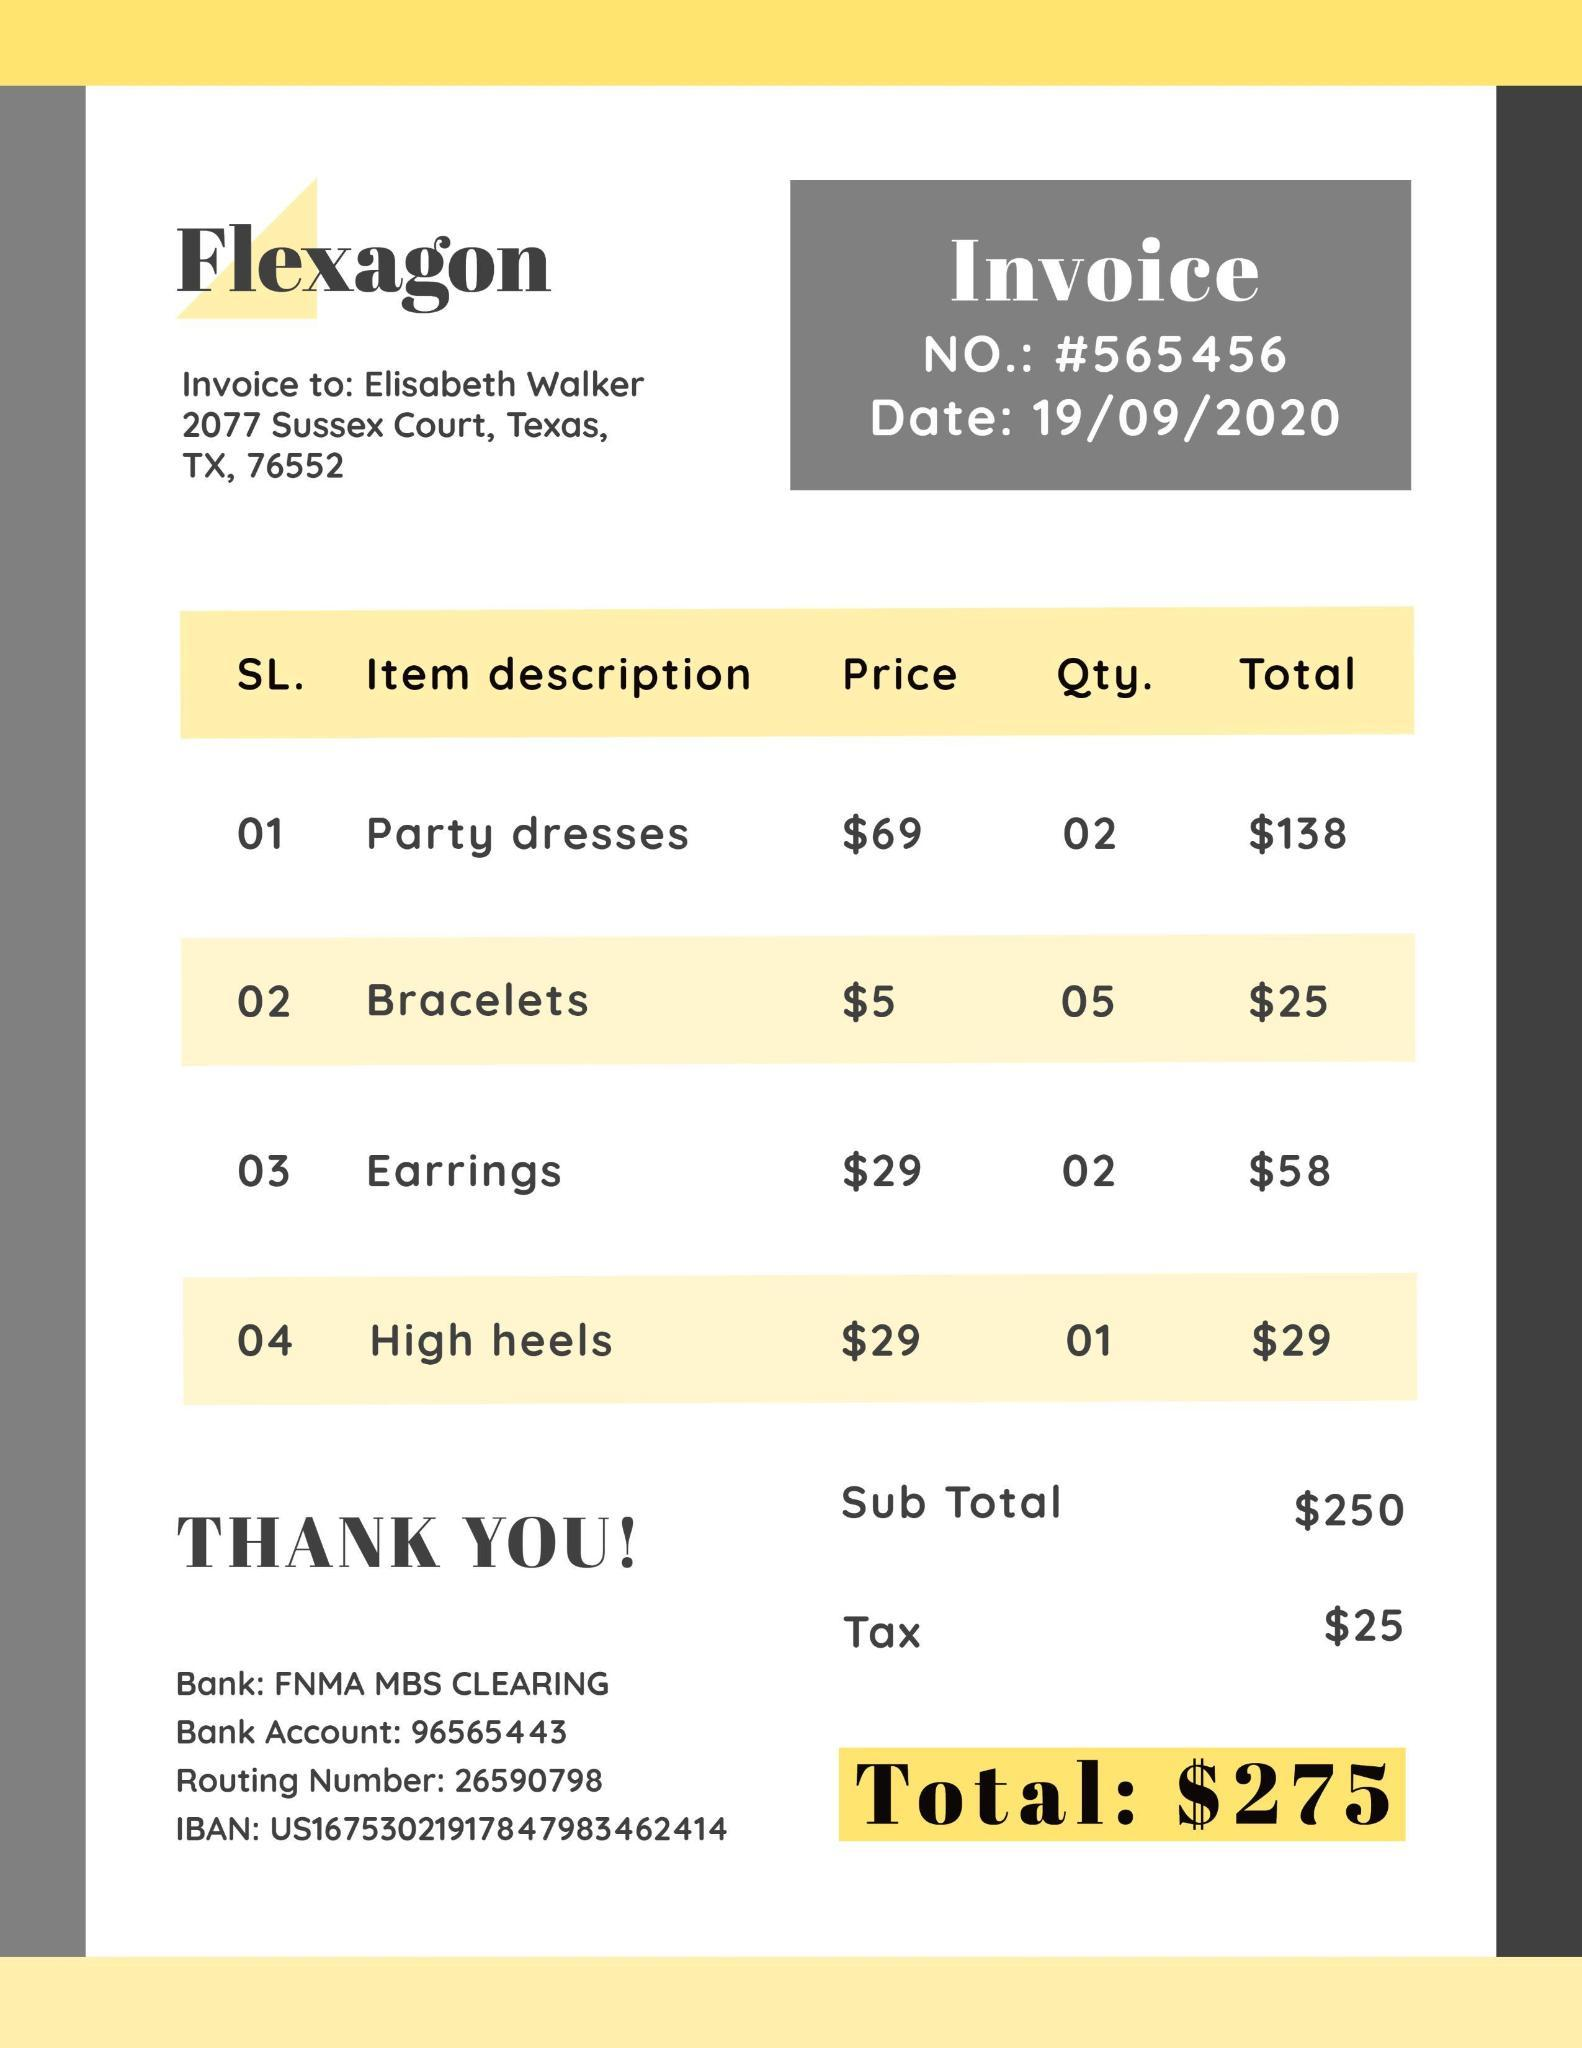ROI: (178, 611, 1409, 1420), (826, 1478, 1432, 1860), (166, 1654, 744, 1849), (852, 224, 1358, 443), (174, 364, 653, 500), (165, 1495, 660, 1598), (178, 224, 552, 311)
